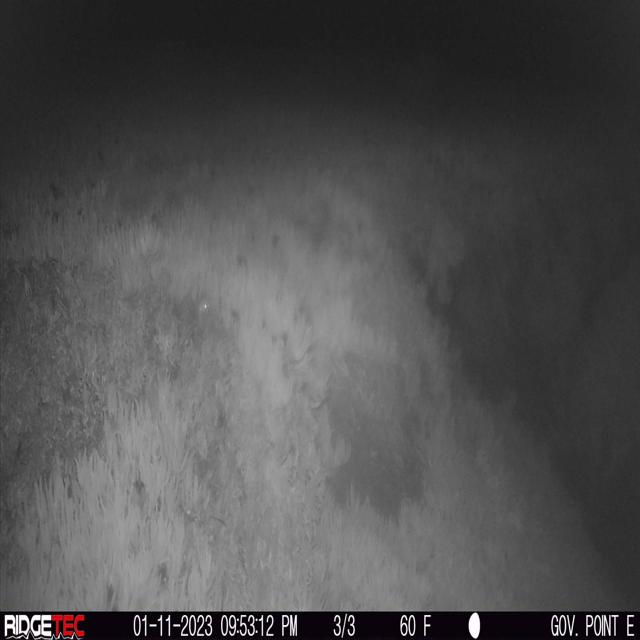rodent: (188, 286, 217, 332)
